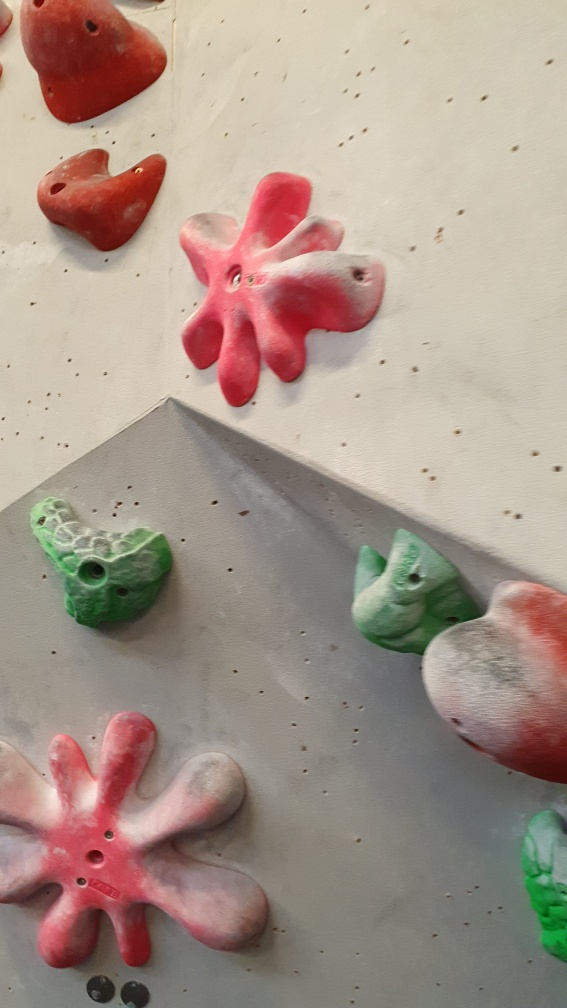Hand Start: (119, 975, 156, 1008), (86, 972, 119, 1008)
Jug: (348, 525, 484, 662), (515, 806, 566, 965)
Octopus Pinch: (1, 709, 275, 971), (170, 165, 388, 409)
Sloper: (419, 573, 567, 782)
